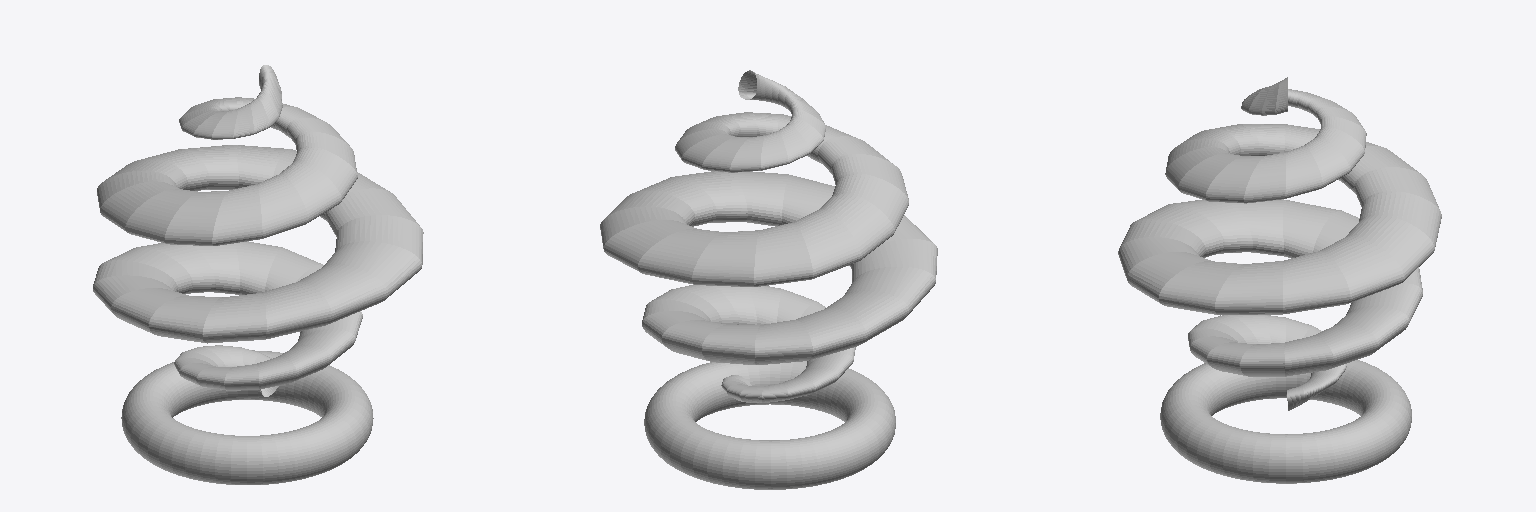
File: spiral.obj
The picture shows the model from 3 angles: view 1: azimuth 30°, elevation 25°; view 2: azimuth 150°, elevation 25°; view 3: azimuth 270°, elevation 25°; orthographic projection.
Visible parts, largest first — view 1: BezierCircle.002, BezierCircle; view 2: BezierCircle.002, BezierCircle; view 3: BezierCircle.002, BezierCircle.
Boxes of the visible parts, box(x1,y1,x2,y2) form: BezierCircle.002: box(93, 65, 423, 396); BezierCircle: box(121, 350, 373, 484); BezierCircle.002: box(600, 70, 937, 402); BezierCircle: box(644, 361, 895, 489); BezierCircle.002: box(1118, 77, 1441, 410); BezierCircle: box(1160, 360, 1411, 483).
Size of the model in its own units: 3.26 by 4.04 by 3.2.